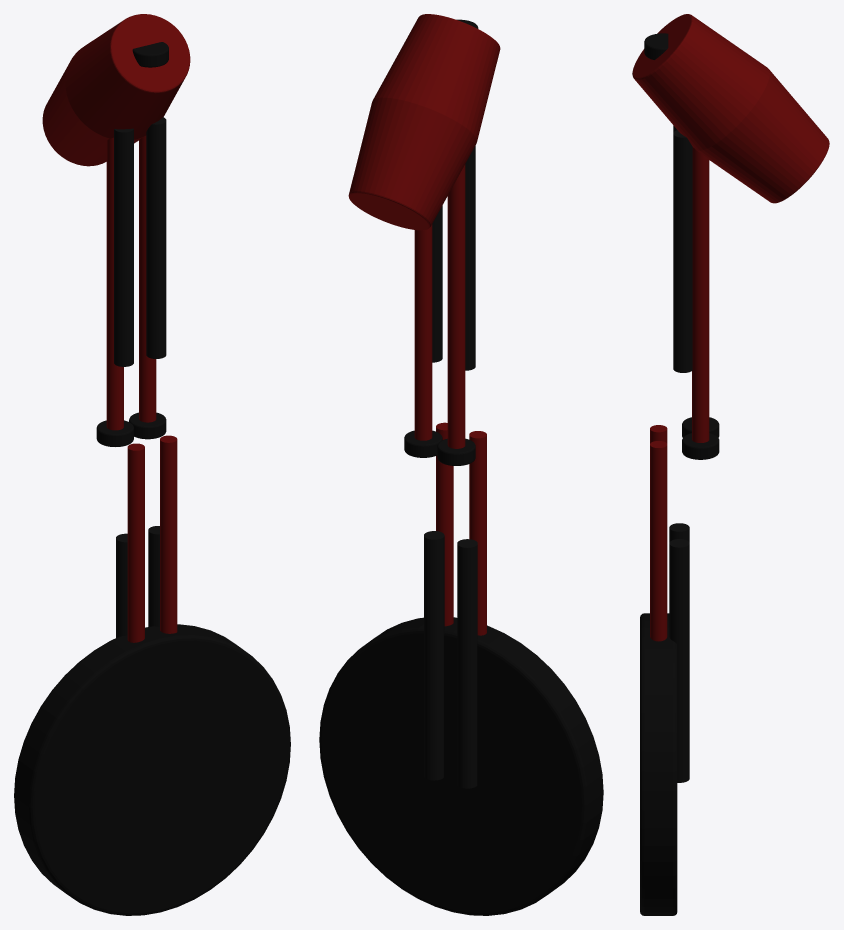
Rendered from Anglepoise_task_lamp.obj.
3 renders of one model, left to right at view 1: azimuth 30°, elevation 25°; view 2: azimuth 150°, elevation 25°; view 3: azimuth 270°, elevation 25°, orthographic. The views are drawn at different scales.
Parts seen in each view (by area): view 1: base, shade, spring.upper_2, spring.upper_1, arm.lower_1, arm.lower_2, arm.upper_1, arm.upper_2, spring.lower_1, spring.lower_2, pivot.elbow_1, pivot.shade (+1 smaller); view 2: base, shade, spring.lower_1, arm.upper_1, spring.lower_2, arm.upper_2, arm.lower_1, spring.upper_1, arm.lower_2, spring.upper_2, pivot.elbow_1, pivot.elbow_2; view 3: shade, base, arm.upper_2, spring.upper_2, spring.lower_2, arm.lower_2, pivot.elbow_2, pivot.shade.
Boxes of the visible parts, <box> form: base: <box>14,624,290,915</box>; shade: <box>42,14,190,166</box>; spring.upper_2: <box>146,117,166,358</box>; spring.upper_1: <box>114,128,133,366</box>; arm.lower_1: <box>127,443,144,642</box>; arm.lower_2: <box>160,435,177,633</box>; arm.upper_1: <box>106,137,123,430</box>; arm.upper_2: <box>139,136,156,422</box>; spring.lower_1: <box>116,533,127,637</box>; spring.lower_2: <box>148,526,159,626</box>; pivot.elbow_1: <box>96,420,133,446</box>; pivot.shade: <box>132,42,168,67</box>; base: <box>319,617,603,915</box>; shade: <box>348,14,500,230</box>; spring.lower_1: <box>457,539,477,788</box>; arm.upper_1: <box>447,164,465,448</box>; spring.lower_2: <box>424,531,444,780</box>; arm.upper_2: <box>414,224,432,440</box>; arm.lower_1: <box>469,431,486,635</box>; spring.upper_1: <box>465,145,475,370</box>; arm.lower_2: <box>436,422,453,626</box>; spring.upper_2: <box>432,205,442,362</box>; pivot.elbow_1: <box>437,438,475,465</box>; pivot.elbow_2: <box>404,430,442,457</box>; shade: <box>632,14,829,203</box>; base: <box>640,613,677,915</box>; arm.upper_2: <box>692,147,709,442</box>; spring.upper_2: <box>673,130,692,372</box>; spring.lower_2: <box>669,539,689,782</box>; arm.lower_2: <box>650,441,667,641</box>; pivot.elbow_2: <box>682,433,719,459</box>; pivot.shade: <box>644,33,668,59</box>.
Bounding box in the file's own units: 0.21 × 0.675 × 0.1367.
